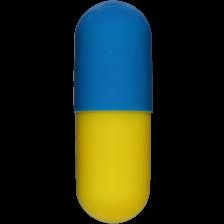51991-074: (0, 0, 224, 224)
